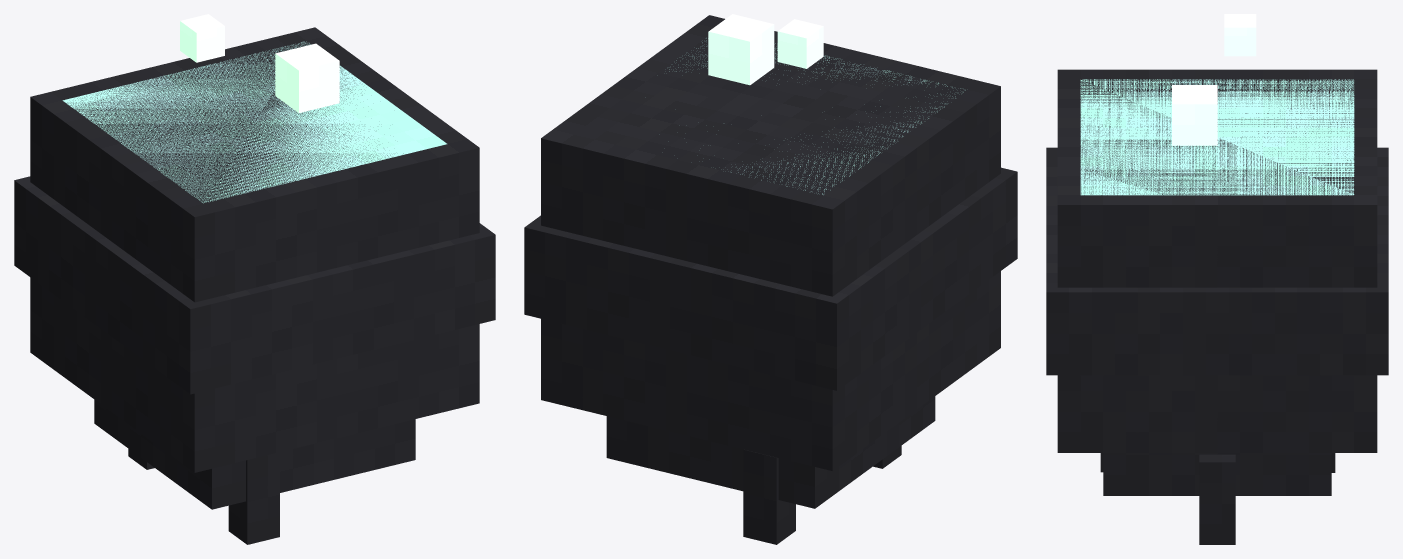
The model's file is chaudron.glb.
The picture shows the model from 3 angles, left to right: view 1: azimuth 30°, elevation 25°; view 2: azimuth 150°, elevation 25°; view 3: azimuth 270°, elevation 25°; orthographic projection. The views are drawn at different scales.
Visible parts, largest first — view 1: Chaudron; view 2: Chaudron; view 3: Chaudron.
Part boxes in pixels (x1,y1,x2,y2): Chaudron: (14,14,495,544); Chaudron: (524,14,1017,544); Chaudron: (1046,14,1388,544).
Size of the model in its own units: 0.75 by 1.08 by 0.75.
3 materials, 3 textured.
